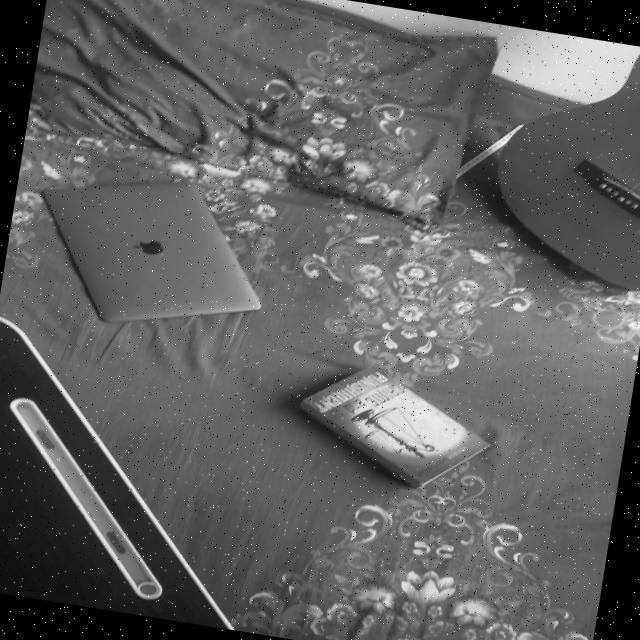book: (272, 346, 548, 516)
guitar: (479, 27, 640, 302)
laptop: (21, 157, 283, 356)
table: (0, 305, 293, 632)
